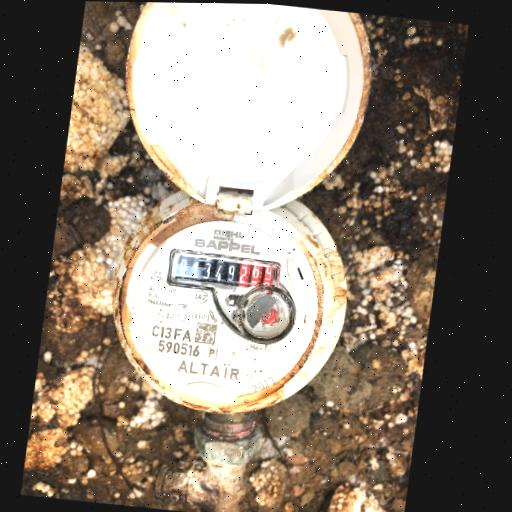0: (175, 254, 192, 279)
1: (189, 257, 203, 281)
2: (237, 263, 251, 288)
3: (201, 260, 215, 283)
4: (213, 260, 227, 283)
6: (248, 265, 262, 289)
9: (260, 265, 274, 288), (225, 262, 238, 285)
border_water_meter_number: (165, 248, 282, 300)
